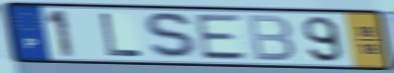1: (44, 9, 77, 59)
9: (300, 15, 347, 64)
B: (245, 13, 298, 63)
E: (193, 13, 251, 61)
L: (97, 11, 145, 58)
S: (142, 10, 204, 61)
